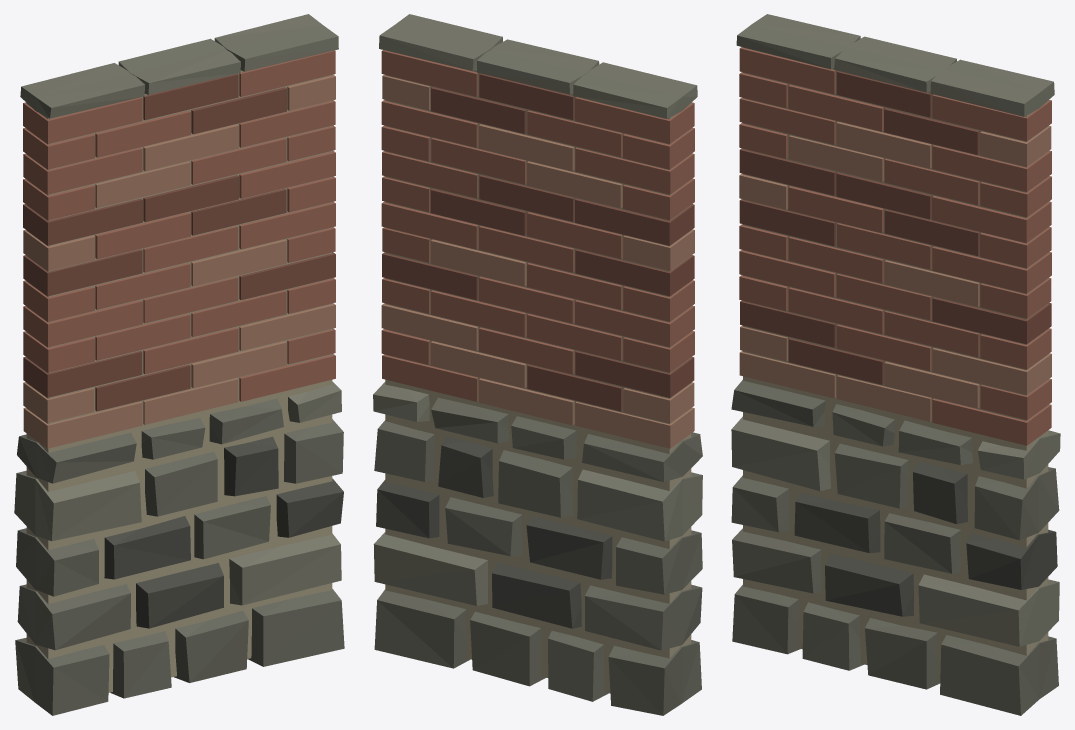
The model's file is wall_stone_brick.glb.
The picture shows the model from 3 angles, left to right: view 1: azimuth 30°, elevation 25°; view 2: azimuth 150°, elevation 25°; view 3: azimuth 330°, elevation 25°; orthographic projection.
Parts seen in each view (by area): view 1: Wall_Stone_Brick; view 2: Wall_Stone_Brick; view 3: Wall_Stone_Brick.
Boxes of the visible parts, x1,y1,x2,y2 form: Wall_Stone_Brick: (14, 14, 344, 715); Wall_Stone_Brick: (373, 14, 702, 715); Wall_Stone_Brick: (731, 14, 1060, 715).
Size of the model in its own units: 1.52 by 3.05 by 0.371.
